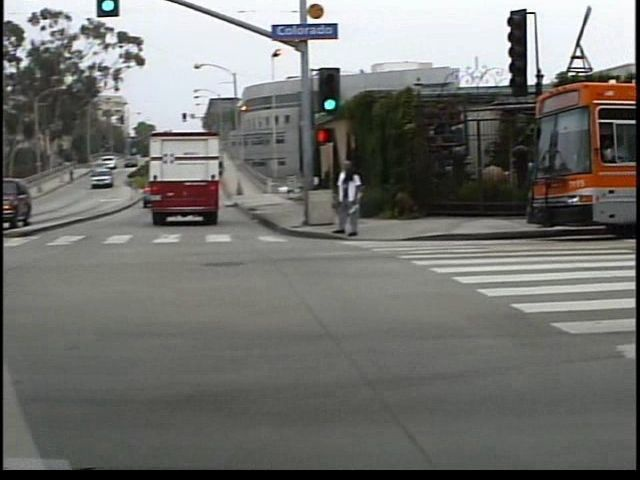person: (343, 156, 374, 239)
